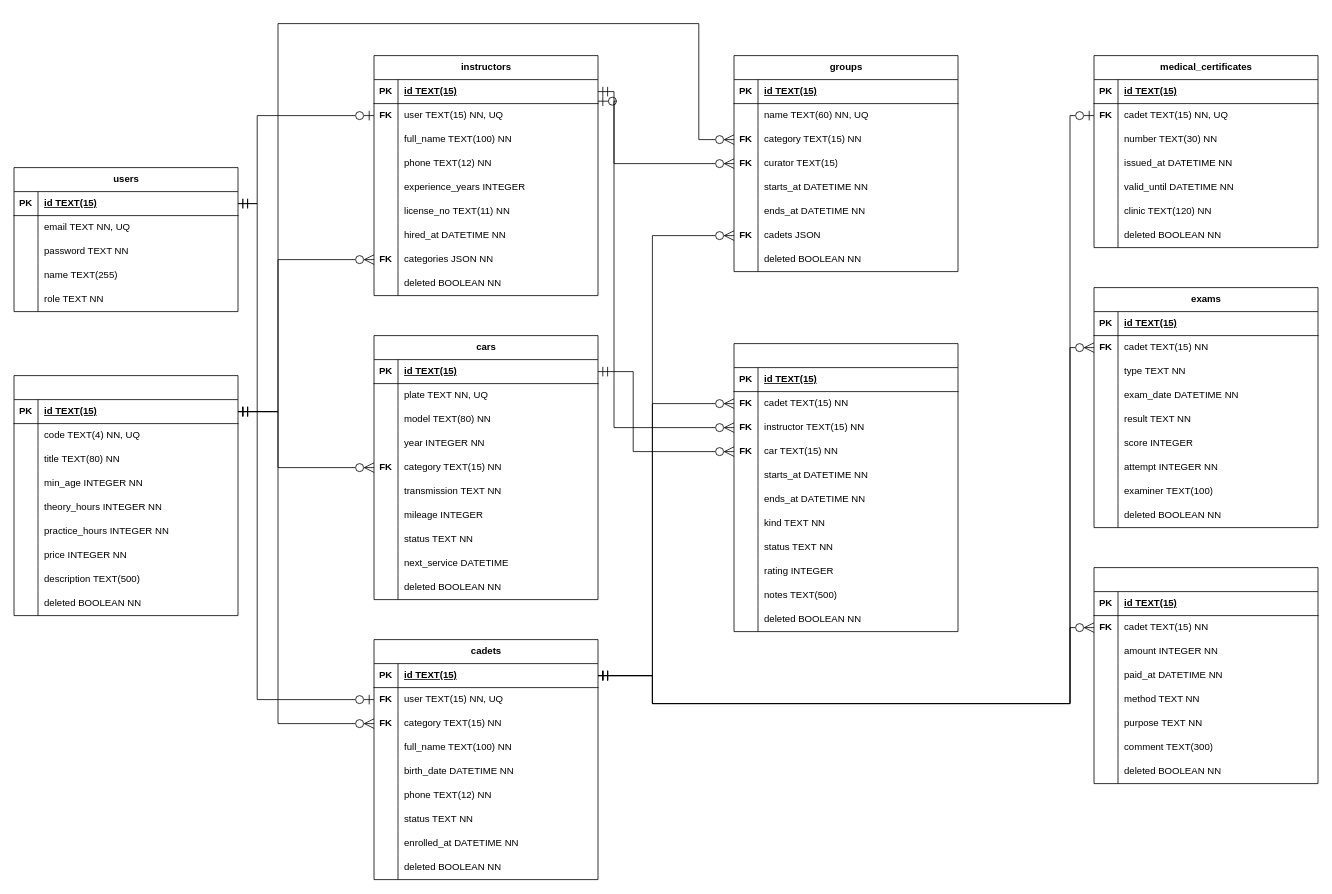
Image size: 1332x894. Some labels were removed from this diagram. The box of each missing label's shape, as (x1, y1, x2, y2) in pixels:
categories: (13, 375, 238, 616)
lessons: (733, 343, 958, 632)
payments: (1093, 567, 1318, 784)
